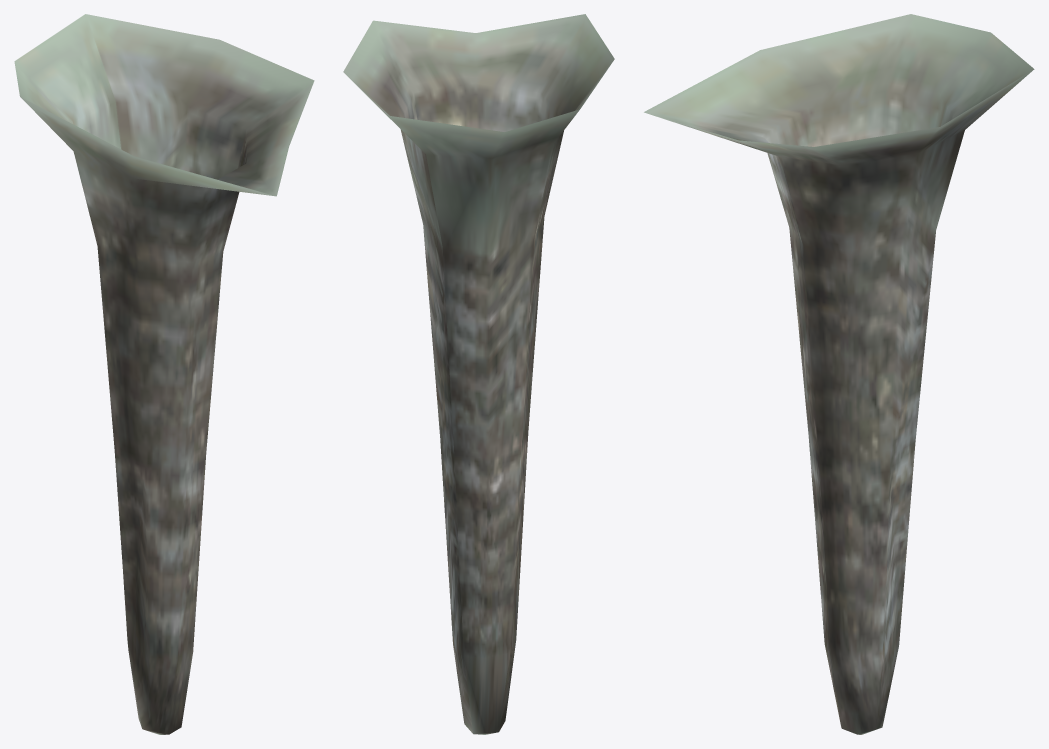
File: TROLLHOLE02_PS-MAINSTALAG80.fbx
3 renders of one model, left to right at view 1: azimuth 30°, elevation 25°; view 2: azimuth 150°, elevation 25°; view 3: azimuth 270°, elevation 25°, orthographic. The views are drawn at different scales.
Parts seen in each view (by area): view 1: TROLLHOLE02_PS-MAINSTALAG80; view 2: TROLLHOLE02_PS-MAINSTALAG80; view 3: TROLLHOLE02_PS-MAINSTALAG80.
Part boxes in pixels (x1,y1,x2,y2): TROLLHOLE02_PS-MAINSTALAG80: (14,14,314,734); TROLLHOLE02_PS-MAINSTALAG80: (343,14,614,734); TROLLHOLE02_PS-MAINSTALAG80: (644,14,1034,734).
Size of the model in its own units: 17985 by 45644 by 24120.
1 material, 1 textured.
